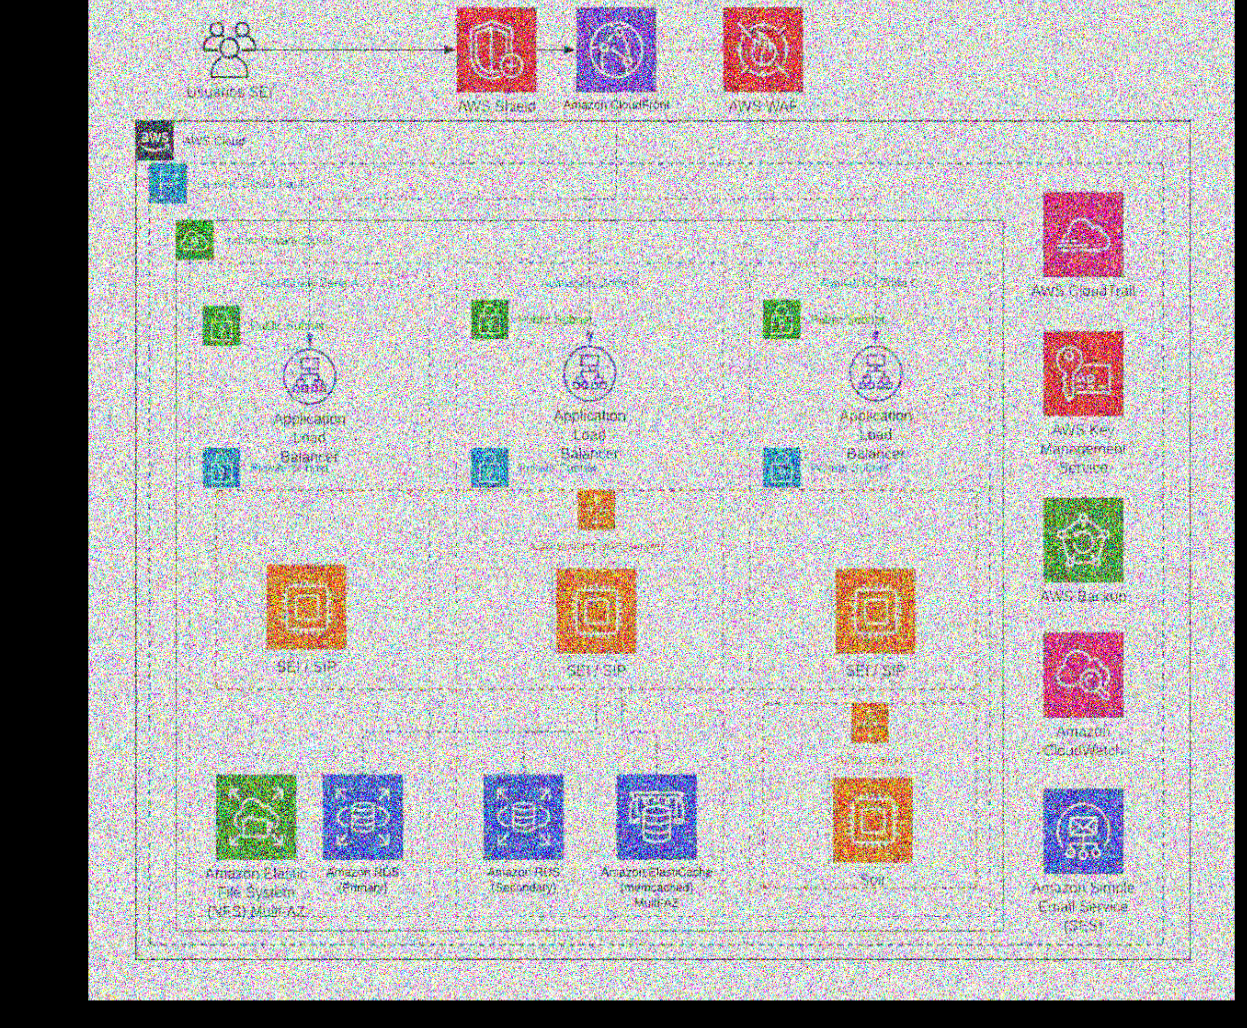aws_application_load_balancer: (278, 345, 338, 404), (844, 342, 904, 401), (558, 342, 617, 401)
aws_autoscaling: (577, 489, 613, 529), (851, 702, 887, 741)
aws_backup: (1043, 496, 1121, 581)
aws_cloud: (132, 119, 172, 156)
aws_cloud_trail: (1043, 189, 1121, 275)
aws_cloudfront: (573, 5, 655, 92)
aws_cloudwatch: (1043, 634, 1120, 717)
aws_elactic_file_system(nfs)_multi-az: (218, 773, 295, 860)
aws_elasticache: (614, 776, 695, 861)
aws_key_management_service: (1041, 330, 1123, 417)
aws_private_subnet: (762, 446, 798, 490), (202, 446, 239, 486), (471, 445, 508, 486)
aws_public_subnet: (454, 3, 536, 93), (200, 303, 240, 345), (469, 297, 508, 339), (763, 298, 798, 337)
aws_rds: (484, 774, 562, 856), (324, 774, 402, 856)
aws_region: (147, 161, 187, 202)
aws_simple_email_service: (1042, 788, 1123, 875)
aws_virtual_private_cloud: (175, 221, 214, 260)
aws_waf: (717, 2, 804, 94)
sei/sip: (263, 560, 347, 651), (552, 563, 636, 653), (832, 563, 915, 653)
solr: (832, 774, 911, 859)
user: (194, 16, 262, 78)
